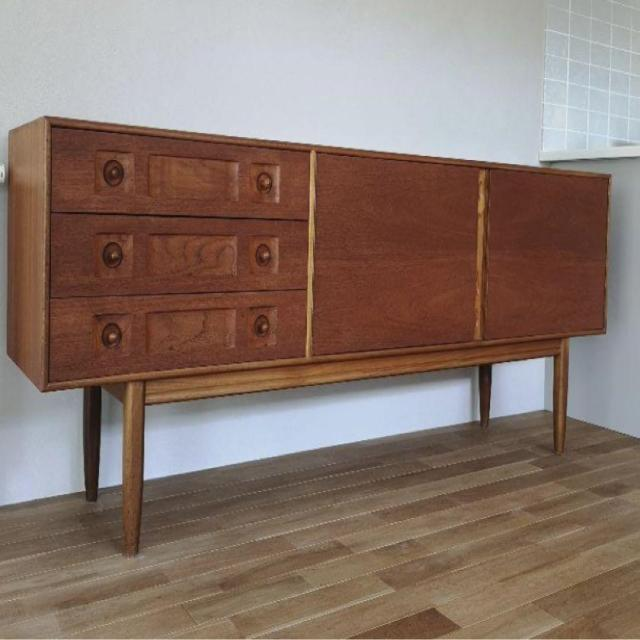vintage shelf: (5, 109, 607, 560)
